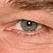eye: (21, 21, 36, 30)
